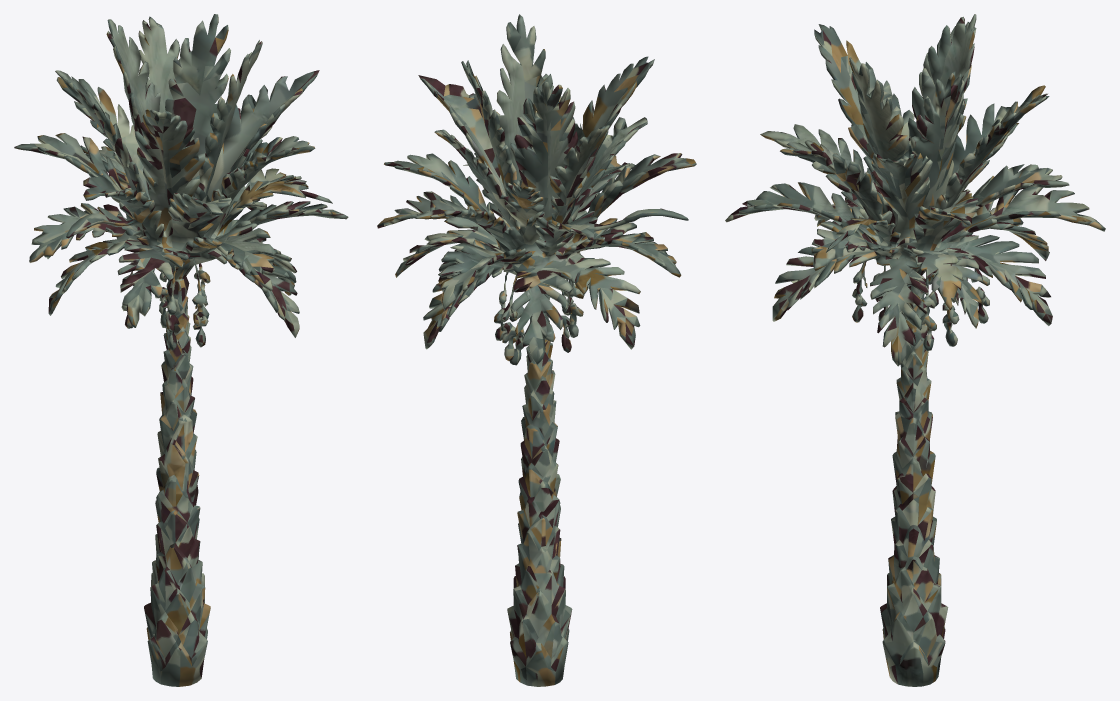
The model's file is Tree 4.fbx.
3 renders of one model, left to right at view 1: azimuth 30°, elevation 25°; view 2: azimuth 150°, elevation 25°; view 3: azimuth 270°, elevation 25°, orthographic. The views are drawn at different scales.
Visible parts, largest first — view 1: tripo_node_da3f4536; view 2: tripo_node_da3f4536; view 3: tripo_node_da3f4536.
Boxes of the visible parts, box(x1,y1,x2,y2) form: tripo_node_da3f4536: box(14, 14, 348, 686); tripo_node_da3f4536: box(377, 14, 696, 686); tripo_node_da3f4536: box(725, 14, 1105, 686).
Size of the model in its own units: 0.4794 by 0.9998 by 0.5341.
